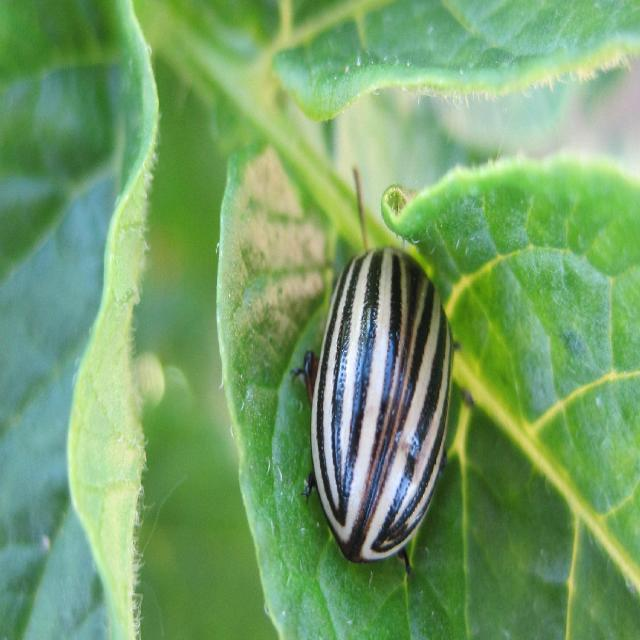ShuCaiHuaBanChong-Grown-: (321, 225, 480, 580)
